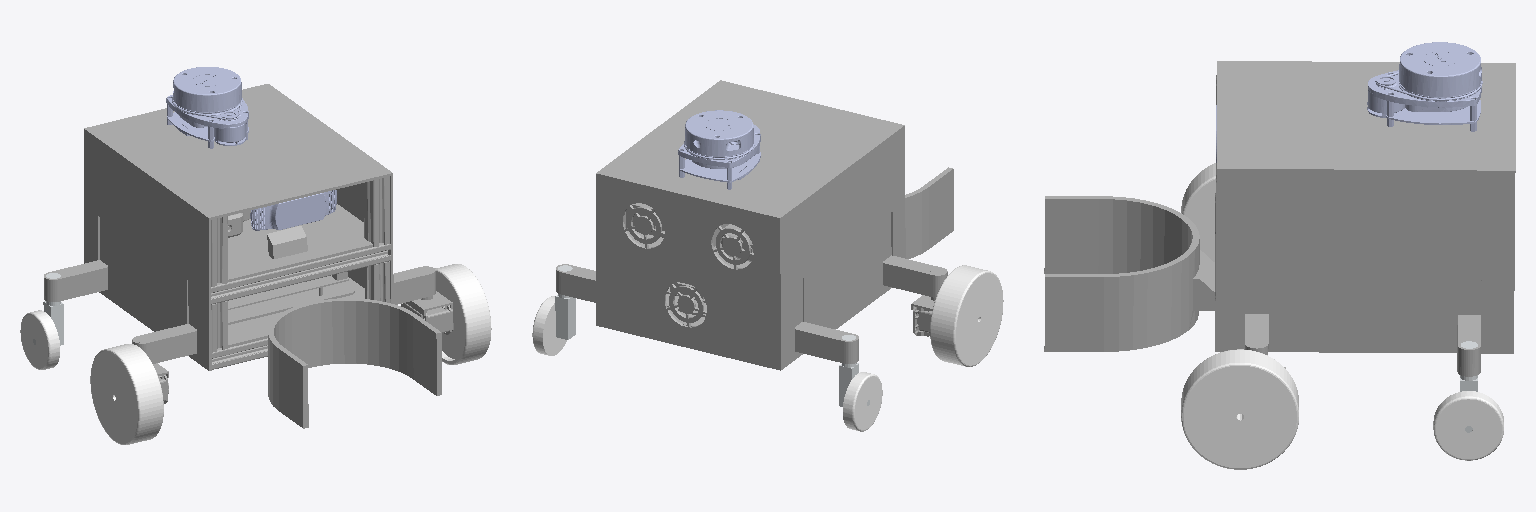
URDF robot description (05148):
<?xml version="1.0" encoding="utf-8"?>
<!-- This URDF was automatically created by SolidWorks to URDF Exporter! Originally created by [author] ([email redacted]) 
     Commit Version: 1.5.1-0-g916b5db  Build Version: 1.5.7152.31018
     For more information, please see http://wiki.ros.org/sw_urdf_exporter -->
<robot
  name="05148">
  <link
    name="Base">
    <inertial>
      <origin
        xyz="0 0 0"
        rpy="0 0 0" />
      <mass
        value="5.3249" />
      <inertia
        ixx="0.021938"
        ixy="-4.0288E-06"
        ixz="-1.4487E-06"
        iyy="0.023202"
        iyz="-7.1805E-05"
        izz="0.014905" />
    </inertial>
    <visual>
      <origin
        xyz="0 0 0"
        rpy="0 0 0" />
      <geometry>
        <mesh
          filename="package://05148/meshes/Base.STL" />
      </geometry>
      <material
        name="">
        <color
          rgba="0.75294 0.75294 0.75294 1" />
      </material>
    </visual>
    <collision>
      <origin
        xyz="0 0 0"
        rpy="0 0 0" />
      <geometry>
        <mesh
          filename="package://05148/meshes/Base.STL" />
      </geometry>
    </collision>
  </link>
  <link
    name="LFS">
    <inertial>
      <origin
        xyz="0.0666875210853829 -0.0254641293387147 0.0267759026382747"
        rpy="0 0 0" />
      <mass
        value="0.26437001106022" />
      <inertia
        ixx="3.20746276473044E-05"
        ixy="-1.44118283518155E-07"
        ixz="-6.30853084354241E-08"
        iyy="6.22704126338821E-05"
        iyz="-2.01894652761256E-07"
        izz="6.28519936953906E-05" />
    </inertial>
    <visual>
      <origin
        xyz="0 0 0"
        rpy="0 0 0" />
      <geometry>
        <mesh
          filename="package://05148/meshes/LFS.STL" />
      </geometry>
      <material
        name="">
        <color
          rgba="0.752941176470588 0.752941176470588 0.752941176470588 1" />
      </material>
    </visual>
    <collision>
      <origin
        xyz="0 0 0"
        rpy="0 0 0" />
      <geometry>
        <mesh
          filename="package://05148/meshes/LFS.STL" />
      </geometry>
    </collision>
  </link>
  <joint
    name="LFS"
    type="prismatic">
    <origin
      xyz="0.17341 -0.39946 -0.0011486"
      rpy="2.8417 0 3.1416" />
    <parent
      link="Base" />
    <child
      link="LFS" />
    <axis
      xyz="0 0.3028 -0.95305" />
    <limit
      lower="0"
      upper="0"
      effort="0"
      velocity="0" />
  </joint>
  <link
    name="LFW">
    <inertial>
      <origin
        xyz="-0.012315724574073 0 0"
        rpy="0 0 0" />
      <mass
        value="0.193585420779862" />
      <inertia
        ixx="0.000253081141332254"
        ixy="-5.88092833198904E-37"
        ixz="5.1845054750851E-21"
        iyy="0.000136818598566517"
        iyz="7.17557753438369E-37"
        izz="0.000136818598566517" />
    </inertial>
    <visual>
      <origin
        xyz="0 0 0"
        rpy="0 0 0" />
      <geometry>
        <mesh
          filename="package://05148/meshes/LFW.STL" />
      </geometry>
      <material
        name="">
        <color
          rgba="1 1 1 1" />
      </material>
    </visual>
    <collision>
      <origin
        xyz="0 0 0"
        rpy="0 0 0" />
      <geometry>
        <mesh
          filename="package://05148/meshes/LFW.STL" />
      </geometry>
    </collision>
  </link>
  <joint
    name="LFW"
    type="continuous">
    <origin
      xyz="0.000410991135076755 -0.0473256302288177 0.0518267010922029"
      rpy="-1.87071350905913 0 -3.14159265358979" />
    <parent
      link="LFS" />
    <child
      link="LFW" />
    <axis
      xyz="1 0 0" />
    <limit
      effort="3.1"
      velocity="7" />
  </joint>
  <link
    name="RFS">
    <inertial>
      <origin
        xyz="0.0724473276378514 -0.0316254871785929 0.0251584272220134"
        rpy="0 0 0" />
      <mass
        value="0.264370011060221" />
      <inertia
        ixx="3.20746276473045E-05"
        ixy="1.44118283518171E-07"
        ixz="6.30853084354421E-08"
        iyy="6.22704126338823E-05"
        iyz="-2.01894652761264E-07"
        izz="6.28519936953909E-05" />
    </inertial>
    <visual>
      <origin
        xyz="0 0 0"
        rpy="0 0 0" />
      <geometry>
        <mesh
          filename="package://05148/meshes/RFS.STL" />
      </geometry>
      <material
        name="">
        <color
          rgba="0.752941176470588 0.752941176470588 0.752941176470588 1" />
      </material>
    </visual>
    <collision>
      <origin
        xyz="0 0 0"
        rpy="0 0 0" />
      <geometry>
        <mesh
          filename="package://05148/meshes/RFS.STL" />
      </geometry>
    </collision>
  </link>
  <joint
    name="RFS"
    type="prismatic">
    <origin
      xyz="-0.246671664584202 -0.438137435830327 -0.000534780378246638"
      rpy="2.82624928008884 0 0" />
    <parent
      link="Base" />
    <child
      link="RFS" />
    <axis
      xyz="0 0.302801016091278 -0.953053799454201" />
    <limit
      lower="0"
      upper="0"
      effort="0"
      velocity="0" />
  </joint>
  <link
    name="RFW">
    <inertial>
      <origin
        xyz="-0.0184865222616183 0.00308257562247916 0.0165391753371567"
        rpy="0 0 0" />
      <mass
        value="0.193585420779862" />
      <inertia
        ixx="0.000253081141332254"
        ixy="-1.23497249055924E-21"
        ixz="2.07163812308337E-21"
        iyy="0.000136818598566517"
        iyz="-6.7762635780344E-21"
        izz="0.000136818598566517" />
    </inertial>
    <visual>
      <origin
        xyz="0 0 0"
        rpy="0 0 0" />
      <geometry>
        <mesh
          filename="package://05148/meshes/RFW.STL" />
      </geometry>
      <material
        name="">
        <color
          rgba="1 1 1 1" />
      </material>
    </visual>
    <collision>
      <origin
        xyz="0 0 0"
        rpy="0 0 0" />
      <geometry>
        <mesh
          filename="package://05148/meshes/RFW.STL" />
      </geometry>
    </collision>
  </link>
  <joint
    name="RFW"
    type="continuous">
    <origin
      xyz="0 -0.0151400508045639 0.04765268997271"
      rpy="-0.707139785690462 0 3.14159265358979" />
    <parent
      link="RFS" />
    <child
      link="RFW" />
    <axis
      xyz="1 0 0" />
    <limit
      effort="3.1"
      velocity="7" />
  </joint>
  <link
    name="LBS">
    <inertial>
      <origin
        xyz="0.0754022136877308 -0.0205417144756382 0.0124394069979403"
        rpy="0 0 0" />
      <mass
        value="0.197009126147877" />
      <inertia
        ixx="1.68802738687173E-05"
        ixy="-1.31544539746547E-21"
        ixz="1.60601474661951E-20"
        iyy="5.0218488566757E-05"
        iyz="1.0508875929185E-06"
        izz="4.72447473350487E-05" />
    </inertial>
    <visual>
      <origin
        xyz="0 0 0"
        rpy="0 0 0" />
      <geometry>
        <mesh
          filename="package://05148/meshes/LBS.STL" />
      </geometry>
      <material
        name="">
        <color
          rgba="0.752941176470588 0.752941176470588 0.752941176470588 1" />
      </material>
    </visual>
    <collision>
      <origin
        xyz="0 0 0"
        rpy="0 0 0" />
      <geometry>
        <mesh
          filename="package://05148/meshes/LBS.STL" />
      </geometry>
    </collision>
  </link>
  <joint
    name="LBS"
    type="prismatic">
    <origin
      xyz="0.17341012423842 -0.219527050846079 -0.0108842724520298"
      rpy="2.84167547132556 0 3.14159265358979" />
    <parent
      link="Base" />
    <child
      link="LBS" />
    <axis
      xyz="0 0.302801016091285 -0.953053799454199" />
    <limit
      lower="0"
      upper="0"
      effort="0"
      velocity="0" />
  </joint>
  <link
    name="LBC">
    <inertial>
      <origin
        xyz="0.000464526735875104 -0.0408268141997156 -8.32667268468867E-17"
        rpy="0 0 0" />
      <mass
        value="0.043396245960262" />
      <inertia
        ixx="2.1180042472488E-05"
        ixy="5.53822046363834E-07"
        ixz="1.58818677610181E-22"
        iyy="1.76453344713605E-06"
        iyz="-2.20592525755641E-20"
        izz="2.14947085785555E-05" />
    </inertial>
    <visual>
      <origin
        xyz="0 0 0"
        rpy="0 0 0" />
      <geometry>
        <mesh
          filename="package://05148/meshes/LBC.STL" />
      </geometry>
      <material
        name="">
        <color
          rgba="0.898039215686275 0.917647058823529 0.929411764705882 1" />
      </material>
    </visual>
    <collision>
      <origin
        xyz="0 0 0"
        rpy="0 0 0" />
      <geometry>
        <mesh
          filename="package://05148/meshes/LBC.STL" />
      </geometry>
    </collision>
  </link>
  <joint
    name="LBC"
    type="continuous">
    <origin
      xyz="0.0411609911350767 -0.0167580647011466 0.000530524260584295"
      rpy="-1.87842355251803 -0.00139263512405277 3.13720937469085" />
    <parent
      link="LBS" />
    <child
      link="LBC" />
    <axis
      xyz="0 1 0" />
  </joint>
  <link
    name="LBW">
    <inertial>
      <origin
        xyz="0.00647268691618069 1.38777878078145E-17 2.77555756156289E-17"
        rpy="0 0 0" />
      <mass
        value="0.0368891747697499" />
      <inertia
        ixx="1.67269024516251E-05"
        ixy="1.7292210705421E-21"
        ixz="-4.76786905075565E-21"
        iyy="8.8792623904253E-06"
        iyz="2.11758236813575E-22"
        izz="8.8792623904253E-06" />
    </inertial>
    <visual>
      <origin
        xyz="0 0 0"
        rpy="0 0 0" />
      <geometry>
        <mesh
          filename="package://05148/meshes/LBW.STL" />
      </geometry>
      <material
        name="">
        <color
          rgba="1 1 1 1" />
      </material>
    </visual>
    <collision>
      <origin
        xyz="0 0 0"
        rpy="0 0 0" />
      <geometry>
        <mesh
          filename="package://05148/meshes/LBW.STL" />
      </geometry>
    </collision>
  </link>
  <joint
    name="LBW"
    type="continuous">
    <origin
      xyz="0.0095006 -0.0683 0"
      rpy="-2.9585 0 0" />
    <parent
      link="LBC" />
    <child
      link="LBW" />
    <axis
      xyz="1 0 0" />
    <limit
      effort="3.1"
      velocity="7" />
  </joint>
  <link
    name="RBS">
    <inertial>
      <origin
        xyz="0.0754022136877308 -0.0205794902065512 0.0125583045641975"
        rpy="0 0 0" />
      <mass
        value="0.197009126147877" />
      <inertia
        ixx="1.68802738687173E-05"
        ixy="-2.46348422057505E-21"
        ixz="6.5252711211074E-22"
        iyy="5.0218488566757E-05"
        iyz="1.0508875929185E-06"
        izz="4.72447473350487E-05" />
    </inertial>
    <visual>
      <origin
        xyz="0 0 0"
        rpy="0 0 0" />
      <geometry>
        <mesh
          filename="package://05148/meshes/RBS.STL" />
      </geometry>
      <material
        name="">
        <color
          rgba="0.752941176470588 0.752941176470588 0.752941176470588 1" />
      </material>
    </visual>
    <collision>
      <origin
        xyz="0 0 0"
        rpy="0 0 0" />
      <geometry>
        <mesh
          filename="package://05148/meshes/RBS.STL" />
      </geometry>
    </collision>
  </link>
  <joint
    name="RBS"
    type="prismatic">
    <origin
      xyz="-0.240911858031734 -0.251146535910569 -0.0105156254858419"
      rpy="2.82624928008884 0 0" />
    <parent
      link="Base" />
    <child
      link="RBS" />
    <axis
      xyz="0 0.302801016091279 -0.953053799454201" />
    <limit
      lower="0"
      upper="0"
      effort="0"
      velocity="0" />
  </joint>
  <link
    name="RBC">
    <inertial>
      <origin
        xyz="0.000464526735875131 -0.0408268141997156 8.32667268468867E-17"
        rpy="0 0 0" />
      <mass
        value="0.0433962459602619" />
      <inertia
        ixx="2.11800424724879E-05"
        ixy="5.53822046363849E-07"
        ixz="-4.19411166305035E-22"
        iyy="1.76453344713605E-06"
        iyz="2.09648926251565E-20"
        izz="2.14947085785554E-05" />
    </inertial>
    <visual>
      <origin
        xyz="0 0 0"
        rpy="0 0 0" />
      <geometry>
        <mesh
          filename="package://05148/meshes/RBC.STL" />
      </geometry>
      <material
        name="">
        <color
          rgba="0.898039215686275 0.917647058823529 0.929411764705882 1" />
      </material>
    </visual>
    <collision>
      <origin
        xyz="0 0 0"
        rpy="0 0 0" />
      <geometry>
        <mesh
          filename="package://05148/meshes/RBC.STL" />
      </geometry>
    </collision>
  </link>
  <joint
    name="RBC"
    type="continuous">
    <origin
      xyz="0.0411609911350767 -0.0167958404320596 0.000649421826841648"
      rpy="-1.87842660467749 0 3.14159265358979" />
    <parent
      link="RBS" />
    <child
      link="RBC" />
    <axis
      xyz="0 1 0" />
  </joint>
  <link
    name="RBW">
    <inertial>
      <origin
        xyz="0.00647333333471939 -2.77555756156289E-17 1.38777878078145E-17"
        rpy="0 0 0" />
      <mass
        value="0.0368891747697499" />
      <inertia
        ixx="1.67269024516251E-05"
        ixy="-2.22678152353162E-21"
        ixz="-4.57890503447017E-22"
        iyy="8.87926239042531E-06"
        iyz="0"
        izz="8.8792623904253E-06" />
    </inertial>
    <visual>
      <origin
        xyz="0 0 0"
        rpy="0 0 0" />
      <geometry>
        <mesh
          filename="package://05148/meshes/RBW.STL" />
      </geometry>
      <material
        name="">
        <color
          rgba="1 1 1 1" />
      </material>
    </visual>
    <collision>
      <origin
        xyz="0 0 0"
        rpy="0 0 0" />
      <geometry>
        <mesh
          filename="package://05148/meshes/RBW.STL" />
      </geometry>
    </collision>
  </link>
  <joint
    name="RBW"
    type="continuous">
    <origin
      xyz="0.00949999999999998 -0.0682998949770438 0"
      rpy="0.983654154638768 0 0" />
    <parent
      link="RBC" />
    <child
      link="RBW" />
    <axis
      xyz="1 0 0" />
    <limit
      effort="3.1"
      velocity="7" />
  </joint>
  <link
    name="Lidar">
    <inertial>
      <origin
        xyz="-0.0784930236720805 0.744427434110801 0.133449662205116"
        rpy="0 0 0" />
      <mass
        value="0.0730845741838002" />
      <inertia
        ixx="1.9580876083019E-05"
        ixy="-4.28391161226819E-07"
        ixz="1.03933621130234E-07"
        iyy="4.14184522502777E-05"
        iyz="-9.42743593249038E-09"
        izz="2.41250083307634E-05" />
    </inertial>
    <visual>
      <origin
        xyz="0 0 0"
        rpy="0 0 0" />
      <geometry>
        <mesh
          filename="package://05148/meshes/Lidar.STL" />
      </geometry>
      <material
        name="">
        <color
          rgba="0.792156862745098 0.819607843137255 0.933333333333333 1" />
      </material>
    </visual>
    <collision>
      <origin
        xyz="0 0 0"
        rpy="0 0 0" />
      <geometry>
        <mesh
          filename="package://05148/meshes/Lidar.STL" />
      </geometry>
    </collision>
  </link>
  <joint
    name="Lidar"
    type="fixed">
    <origin
      xyz="0.099167 -0.35632 -0.59911"
      rpy="1.5708 -0.0077131 -1.5708" />
    <parent
      link="Base" />
    <child
      link="Lidar" />
    <axis
      xyz="0 0 0" />
  </joint>
  <link
    name="Front_Cam">
    <inertial>
      <origin
        xyz="0.0498359970771496 0.061783635914709 0.0687226592339398"
        rpy="0 0 0" />
      <mass
        value="0.0436119948521297" />
      <inertia
        ixx="4.2947913749771E-06"
        ixy="-8.85886294505051E-10"
        ixz="-1.0181287221024E-09"
        iyy="2.21058139310684E-05"
        iyz="2.17578140553957E-08"
        izz="2.35707056576044E-05" />
    </inertial>
    <visual>
      <origin
        xyz="0 0 0"
        rpy="0 0 0" />
      <geometry>
        <mesh
          filename="package://05148/meshes/Front_Cam.STL" />
      </geometry>
      <material
        name="">
        <color
          rgba="0.792156862745098 0.819607843137255 0.933333333333333 1" />
      </material>
    </visual>
    <collision>
      <origin
        xyz="0 0 0"
        rpy="0 0 0" />
      <geometry>
        <mesh
          filename="package://05148/meshes/Front_Cam.STL" />
      </geometry>
    </collision>
  </link>
  <joint
    name="Front_Cam"
    type="fixed">
    <origin
      xyz="-0.08359 -0.36966 0.042206"
      rpy="1.5631 0 0" />
    <parent
      link="Base" />
    <child
      link="Front_Cam" />
    <axis
      xyz="0 0 0" />
  </joint>
  <link
    name="Ball_cam">
    <inertial>
      <origin
        xyz="0 0 0"
        rpy="0 0 0" />
      <mass
        value="0" />
      <inertia
        ixx="0"
        ixy="0"
        ixz="0"
        iyy="0"
        iyz="0"
        izz="0" />
    </inertial>
    <visual>
      <origin
        xyz="0 0 0"
        rpy="0 0 0" />
      <geometry>
        <mesh
          filename="package://05148/meshes/Ball_cam.STL" />
      </geometry>
      <material
        name="">
        <color
          rgba="1 1 1 1" />
      </material>
    </visual>
    <collision>
      <origin
        xyz="0 0 0"
        rpy="0 0 0" />
      <geometry>
        <mesh
          filename="package://05148/meshes/Ball_cam.STL" />
      </geometry>
    </collision>
  </link>
  <joint
    name="Ball_cam"
    type="fixed">
    <origin
      xyz="-0.083757 -0.34814 0.055376"
      rpy="2.1944 0 0" />
    <parent
      link="Base" />
    <child
      link="Ball_cam" />
    <axis
      xyz="0 0 0" />
  </joint>
</robot>

--- Facts derived from the render (not from the file) ---
Views: 3 orthographic renders of the robot side by side, from view 1: azimuth 30°, elevation 25°; view 2: azimuth 150°, elevation 25°; view 3: azimuth 270°, elevation 25°.
Robot: 05148 — 14 links, 13 joints (6 continuous, 4 prismatic, 3 fixed); root link Base; default pose: every joint at zero.
Links seen in each view (by area): view 1: Base, RFW, Lidar, LFW, LFS, Front_Cam, RFS, RBS, RBW, RBC; view 2: Base, RFW, Lidar, RFS, RBS, RBW, LBW, LBS, LBC, RBC; view 3: Base, LFW, Lidar, LBW, RFW, LBS, LFS.
Boxes of the visible links, left/top/right/bottom form: Base: left=84, top=84, right=441, bottom=428; RFW: left=90, top=344, right=163, bottom=444; Lidar: left=166, top=67, right=248, bottom=148; LFW: left=435, top=264, right=491, bottom=364; LFS: left=393, top=266, right=453, bottom=334; Front_Cam: left=250, top=190, right=336, bottom=230; RFS: left=132, top=324, right=196, bottom=403; RBS: left=44, top=260, right=107, bottom=301; RBW: left=20, top=310, right=59, bottom=369; RBC: left=33, top=273, right=63, bottom=345; Base: left=596, top=80, right=953, bottom=370; RFW: left=930, top=265, right=1003, bottom=366; Lidar: left=678, top=110, right=760, bottom=189; RFS: left=883, top=255, right=947, bottom=336; RBS: left=795, top=322, right=858, bottom=363; RBW: left=843, top=372, right=882, bottom=431; LBW: left=532, top=296, right=566, bottom=355; LBS: left=556, top=264, right=595, bottom=302; LBC: left=555, top=265, right=575, bottom=339; RBC: left=839, top=335, right=869, bottom=406; Base: left=1044, top=61, right=1515, bottom=353; LFW: left=1181, top=349, right=1298, bottom=469; Lidar: left=1367, top=42, right=1482, bottom=131; LBW: left=1433, top=391, right=1503, bottom=460; RFW: left=1181, top=163, right=1215, bottom=261; LBS: left=1457, top=315, right=1480, bottom=376; LFS: left=1245, top=314, right=1285, bottom=368.
Size in the robot's own frame: 0.4135 by 0.3987 by 0.2883 metres.
13 mesh visuals loaded from 14 distinct referenced files (13 binary STL); not drawn: 1 (reference not matched to a file when rendering).